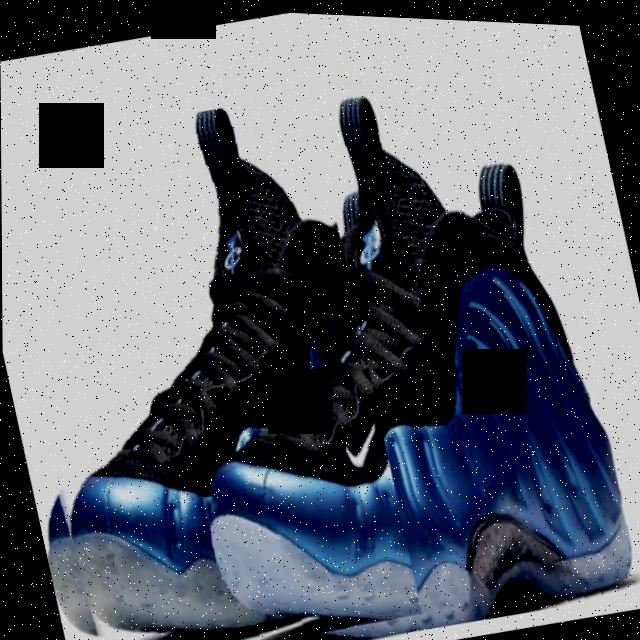shoe: (87, 10, 640, 640), (0, 79, 423, 640)
